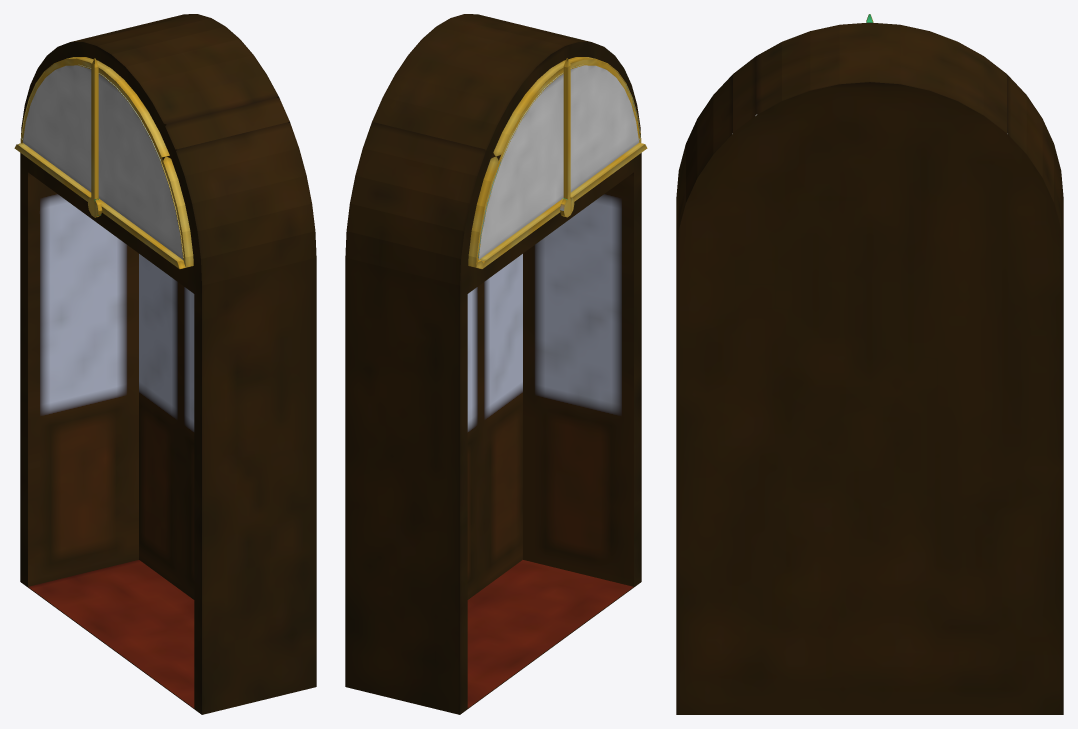
Rendered from Elevador (1).fbx.
The picture shows the model from 3 angles, left to right: view 1: azimuth 30°, elevation 25°; view 2: azimuth 150°, elevation 25°; view 3: azimuth 270°, elevation 25°; orthographic projection. The views are drawn at different scales.
Visible parts, largest first — view 1: Cube.002; view 2: Cube.002; view 3: Cube.002.
Boxes of the visible parts, x1,y1,x2,y2 form: Cube.002: [14, 14, 316, 714]; Cube.002: [345, 14, 647, 714]; Cube.002: [676, 14, 1063, 714].
Size of the model in its own units: 75.45 by 323 by 179.
1 material, 1 textured.
